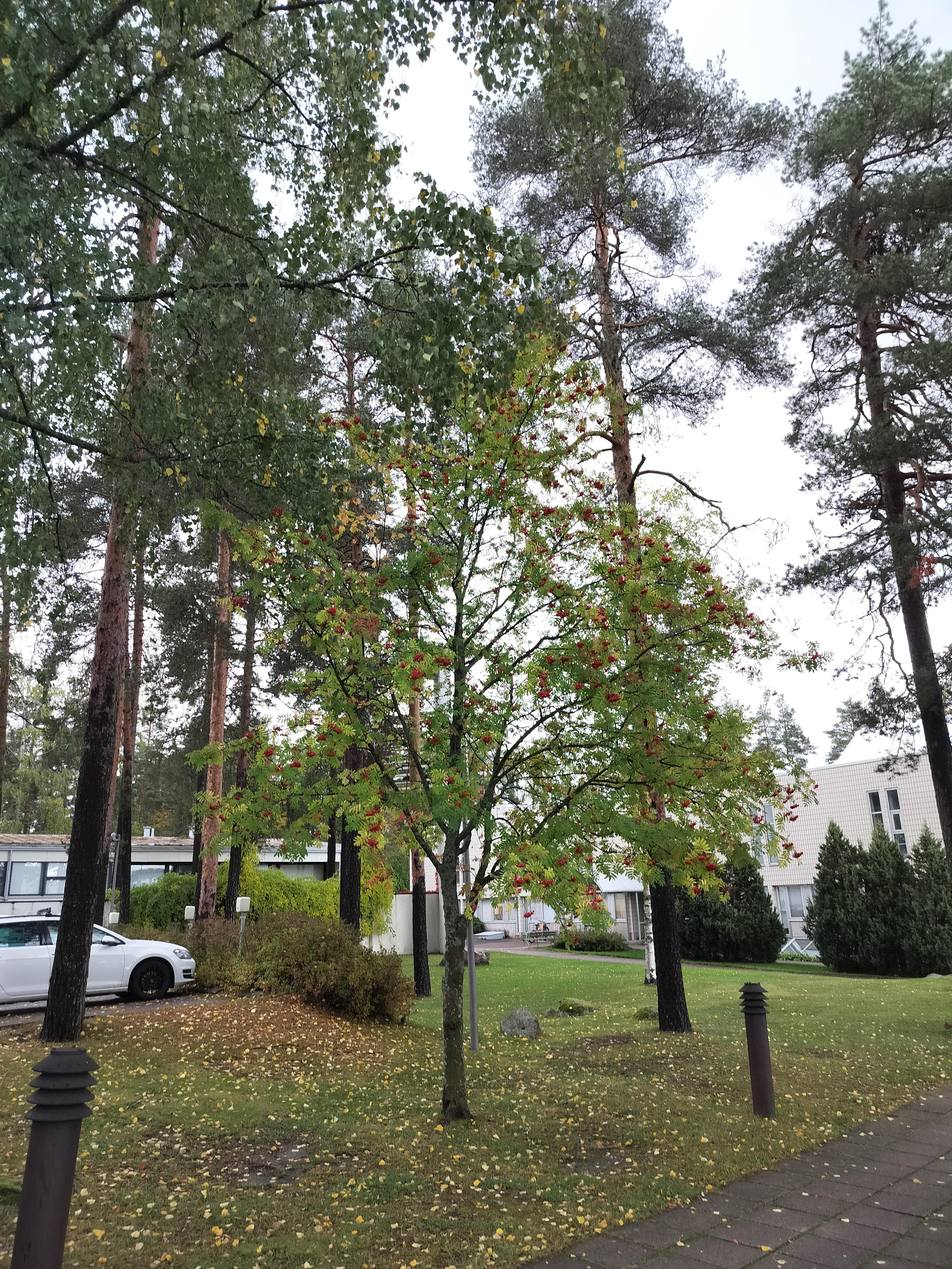Rowan: (186, 325, 738, 1120)
